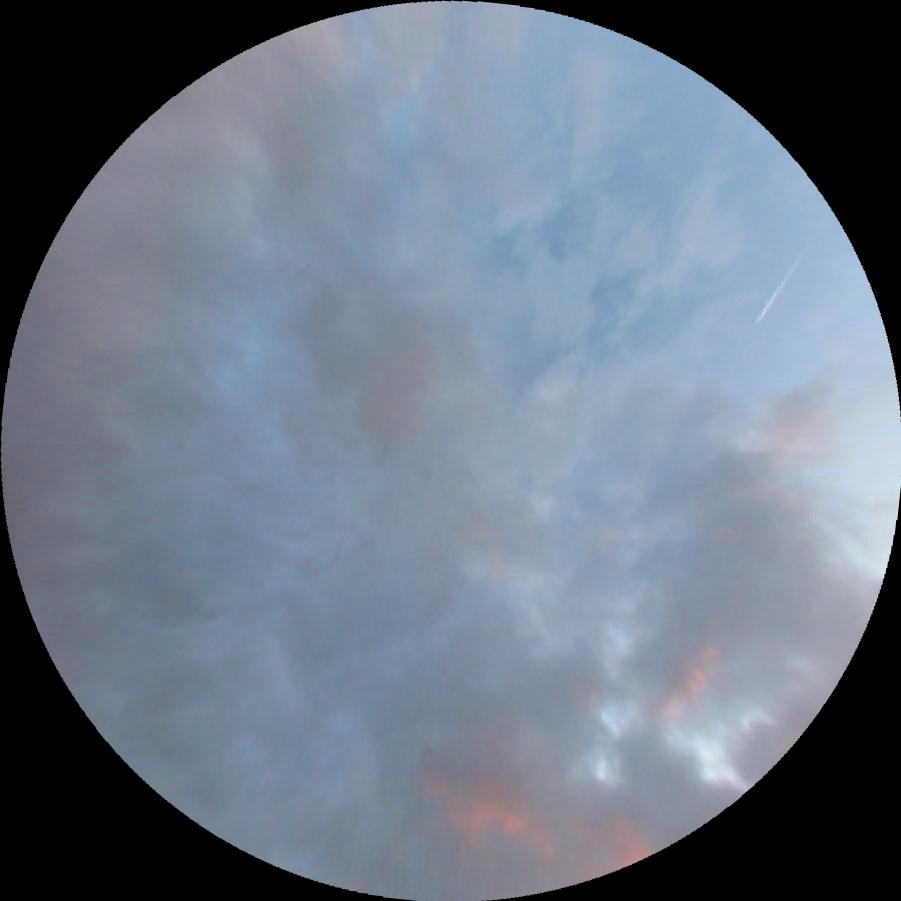contrail young: (752, 235, 814, 325)
